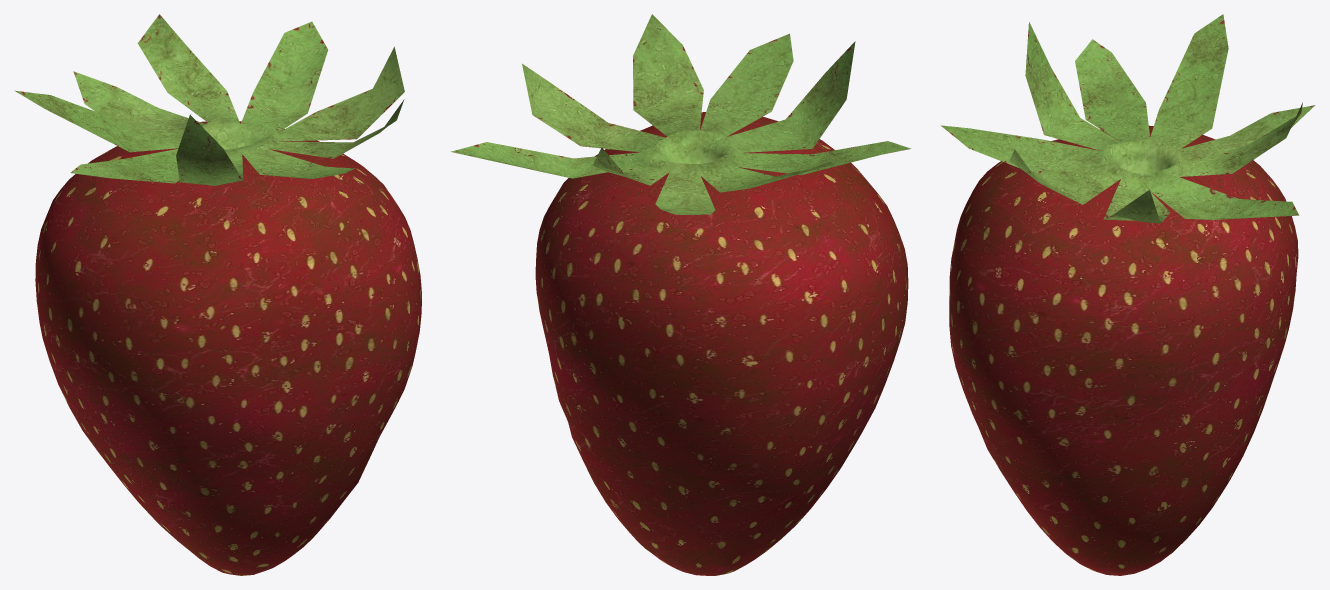
The model's file is strawberry.glb.
The picture shows the model from 3 angles, left to right: view 1: azimuth 30°, elevation 25°; view 2: azimuth 150°, elevation 25°; view 3: azimuth 270°, elevation 25°; orthographic projection. The views are drawn at different scales.
Visible parts, largest first — view 1: Cube.043; view 2: Cube.043; view 3: Cube.043.
Part boxes in pixels (x1,y1,x2,y2): Cube.043: (14, 14, 421, 575); Cube.043: (450, 14, 911, 575); Cube.043: (941, 14, 1315, 575).
Size of the model in its own units: 1.64 by 2.27 by 1.54.
Materials: 1 (1 with a texture image).
